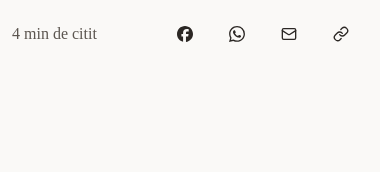
Test: ShareLinks — THE LINE, on the real stylesheet › never widens the row (contain: inline-size): a sentence wider than the four glyphs wraps inside them, into even lines, with room for it kept under the button
Click the button named "Copiază linkul". click: x=341, y=34
box: [319,12,363,56]
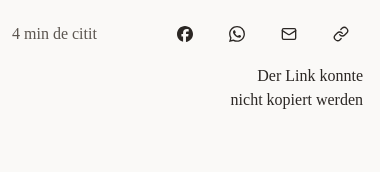
expect the text "Der Link konnte nicht kopiert werden" is shown: met, box [231,67,363,108]
